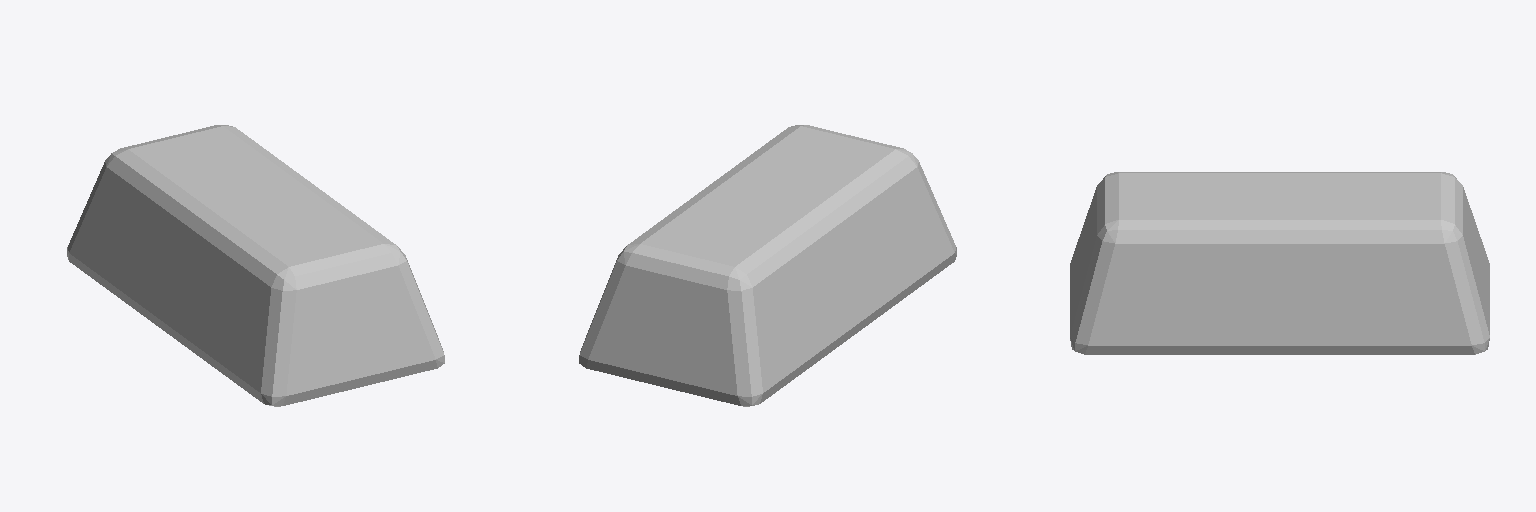
File: Gold_Bar.obj
3 renders of one model, left to right at view 1: azimuth 30°, elevation 25°; view 2: azimuth 150°, elevation 25°; view 3: azimuth 270°, elevation 25°, orthographic.
Visible parts, largest first — view 1: Gold_Bar; view 2: Gold_Bar; view 3: Gold_Bar.
Part boxes in pixels (x1,y1,x2,y2): Gold_Bar: (67, 125, 444, 406); Gold_Bar: (579, 125, 956, 406); Gold_Bar: (1070, 172, 1489, 354).
Bounding box in the file's own units: 0.4 × 0.25 × 0.8.